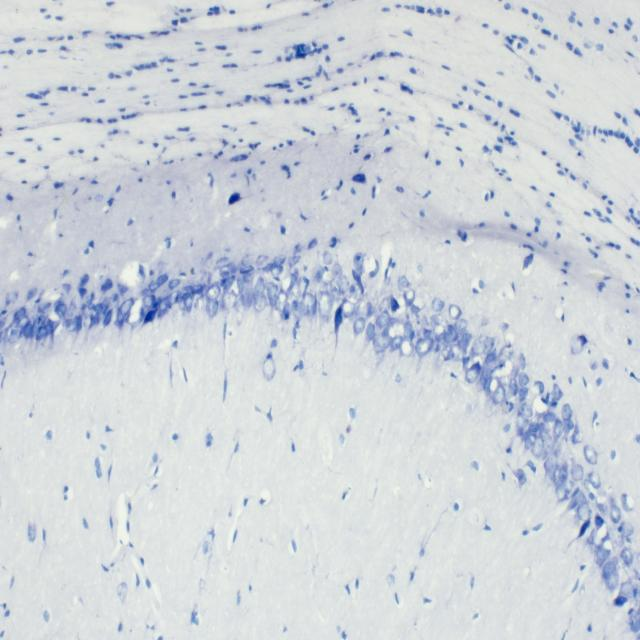neuron: (126, 298, 144, 328), (317, 291, 332, 319), (483, 376, 502, 398), (465, 361, 482, 384), (149, 272, 168, 292), (235, 294, 247, 325), (515, 412, 529, 438), (399, 336, 415, 358), (531, 434, 544, 460), (583, 444, 598, 466), (275, 288, 288, 313), (416, 337, 432, 357), (620, 493, 636, 512), (356, 297, 368, 322), (444, 324, 459, 344), (457, 332, 472, 352), (578, 501, 592, 522), (374, 333, 391, 350), (204, 284, 222, 300), (410, 296, 426, 314), (267, 281, 278, 307), (222, 291, 237, 310), (572, 487, 587, 506), (120, 296, 134, 316), (341, 298, 355, 318), (544, 452, 558, 472), (596, 547, 610, 567), (432, 324, 447, 342), (619, 520, 634, 538), (472, 336, 486, 355), (570, 463, 584, 482), (588, 471, 602, 490), (620, 546, 634, 565), (206, 298, 219, 318), (252, 280, 265, 300), (252, 293, 266, 311), (602, 560, 616, 578), (605, 572, 619, 590), (337, 275, 350, 294), (403, 320, 414, 342), (403, 288, 415, 308), (396, 276, 412, 291), (562, 418, 574, 438), (610, 504, 622, 524), (550, 384, 564, 401), (620, 581, 634, 598), (493, 386, 506, 404), (612, 529, 625, 547), (552, 418, 562, 441), (556, 483, 568, 502), (530, 381, 545, 396), (82, 314, 96, 330), (376, 311, 390, 327), (520, 402, 533, 419), (544, 434, 554, 456), (558, 461, 568, 483), (524, 432, 536, 450), (5, 290, 18, 306), (54, 302, 67, 318), (390, 335, 403, 351), (294, 302, 306, 319), (482, 336, 494, 353), (561, 404, 573, 421), (528, 416, 540, 433), (8, 329, 21, 344), (116, 282, 129, 297), (449, 304, 461, 320), (366, 322, 376, 341), (508, 378, 518, 397), (331, 262, 342, 279), (354, 318, 365, 335), (288, 254, 302, 267), (454, 318, 468, 331), (65, 317, 77, 332), (115, 308, 125, 326), (518, 372, 530, 387), (544, 470, 556, 485), (184, 294, 193, 313), (66, 302, 76, 319), (330, 286, 340, 303), (431, 298, 444, 311), (14, 307, 26, 321), (272, 254, 286, 266), (518, 387, 529, 402), (104, 308, 113, 326), (292, 283, 302, 299), (17, 315, 29, 328), (144, 294, 156, 307), (539, 421, 551, 434), (26, 287, 37, 301), (79, 274, 90, 288), (159, 296, 170, 310), (518, 353, 527, 370), (314, 267, 324, 282), (53, 296, 65, 308), (484, 352, 496, 364), (191, 284, 204, 295), (430, 314, 443, 325), (94, 302, 104, 316), (220, 277, 234, 287), (240, 264, 254, 274), (270, 265, 284, 275), (322, 252, 332, 266), (542, 412, 556, 422), (169, 278, 180, 290), (256, 255, 268, 266), (182, 286, 194, 294), (63, 284, 72, 294), (502, 423, 511, 432)
